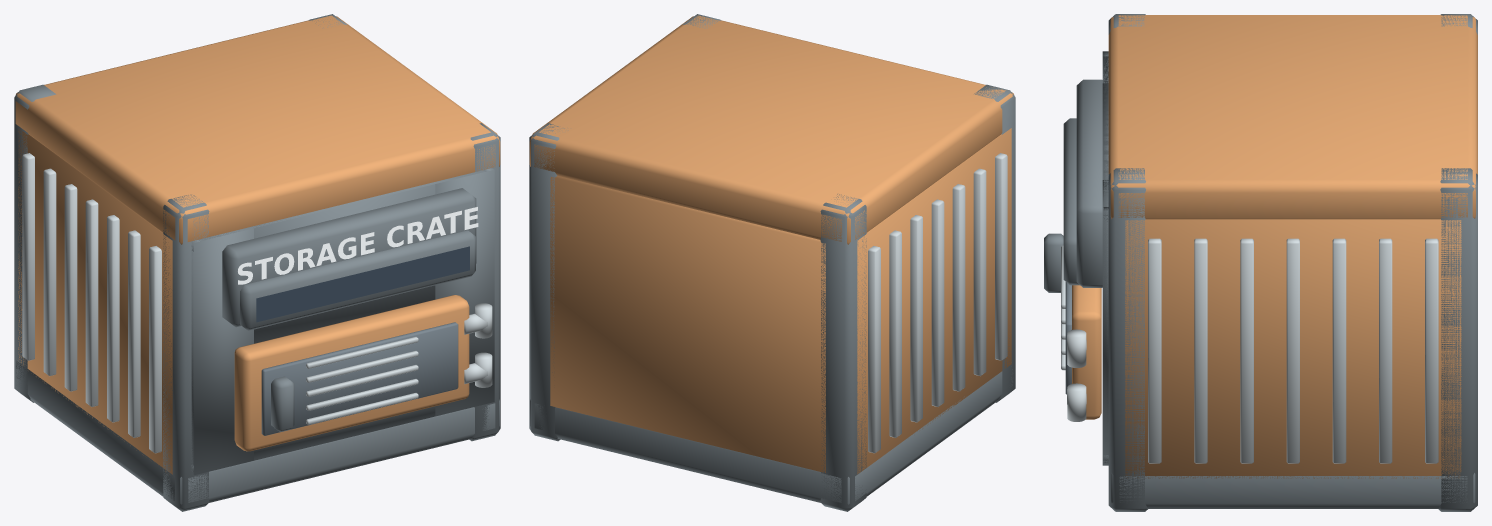
File: storage_crate_ultra.glb
3 views of the same model, side by side, from view 1: azimuth 30°, elevation 25°; view 2: azimuth 150°, elevation 25°; view 3: azimuth 270°, elevation 25° (orthographic). The views are drawn at different scales.
Visible parts, largest first — view 1: Roof_orange, CargoRib_steel, SideWall_orange, SealJamb_frame, CornerPost_frame, Skid_frame, DoorMoving_Panel_orange, Header_frame, DoorMoving_Inset_graphite, ResourceNameSurfaceFrame_frame, ResourceNameSurface_glass, SealHeader_frame (+7 smaller); view 2: Roof_orange, RearWall_orange, CornerPost_frame, SideWall_orange, CargoRib_steel, Skid_frame; view 3: Roof_orange, SideWall_orange, CornerPost_frame, CargoRib_steel, Skid_frame, Header_frame, DoorMoving_Panel_orange, ResourceNameSurfaceFrame_frame, SealSideReturn_frame, DoorHinge_steel, SealJamb_frame, DoorMoving_Handle_frame (+4 smaller).
Boxes of the visible parts, x1,y1,x2,y2 form: Roof_orange: (15,15,500,244); CargoRib_steel: (22,153,161,453); SideWall_orange: (18,128,172,474); SealJamb_frame: (191,169,494,475); CornerPost_frame: (14,14,500,511); Skid_frame: (16,360,499,504); DoorMoving_Panel_orange: (234,295,469,451); Header_frame: (222,188,476,327); DoorMoving_Inset_graphite: (261,322,458,435); ResourceNameSurfaceFrame_frame: (240,230,475,330); ResourceNameSurface_glass: (256,246,469,322); SealHeader_frame: (252,184,435,343); Roof_orange: (529,15,1013,244); RearWall_orange: (550,176,825,472); CornerPost_frame: (529,14,1015,511); SideWall_orange: (857,128,1011,474); CargoRib_steel: (868,153,1007,453); Skid_frame: (530,369,1012,504); Roof_orange: (1108,15,1477,219); SideWall_orange: (1125,219,1461,478); CornerPost_frame: (1108,14,1477,511); CargoRib_steel: (1148,238,1438,463); Skid_frame: (1111,473,1475,508); Header_frame: (1076,79,1102,287); DoorMoving_Panel_orange: (1072,285,1101,419); ResourceNameSurfaceFrame_frame: (1063,118,1079,285); SealSideReturn_frame: (1103,51,1108,465); DoorHinge_steel: (1067,329,1086,421); SealJamb_frame: (1102,51,1108,465); DoorMoving_Handle_frame: (1044,233,1063,292).
Bounding box in the file's own units: 1.08 × 0.92 × 1.09.
